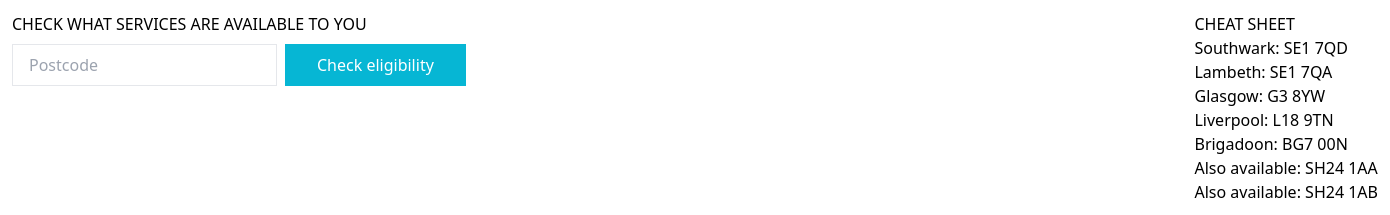
Scenario: ServiceChecker › incorrect password › Submits BG7 00N
Expected: the text "Check what services are available to you" is shown, [12, 13, 367, 35]
Type "BG7 00N" into the field labelled "Postcode" at point(144, 65), box [12, 44, 277, 86]
Then press Enter
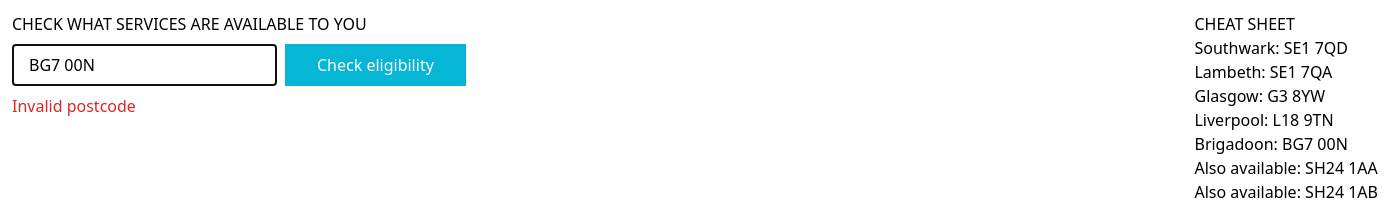
Expected: the text "Invalid postcode" is shown, [12, 95, 136, 117]
